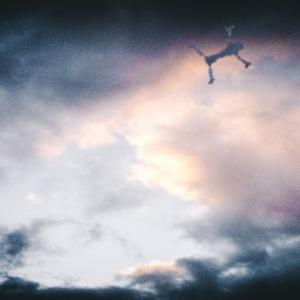drone: (191, 13, 269, 91)
